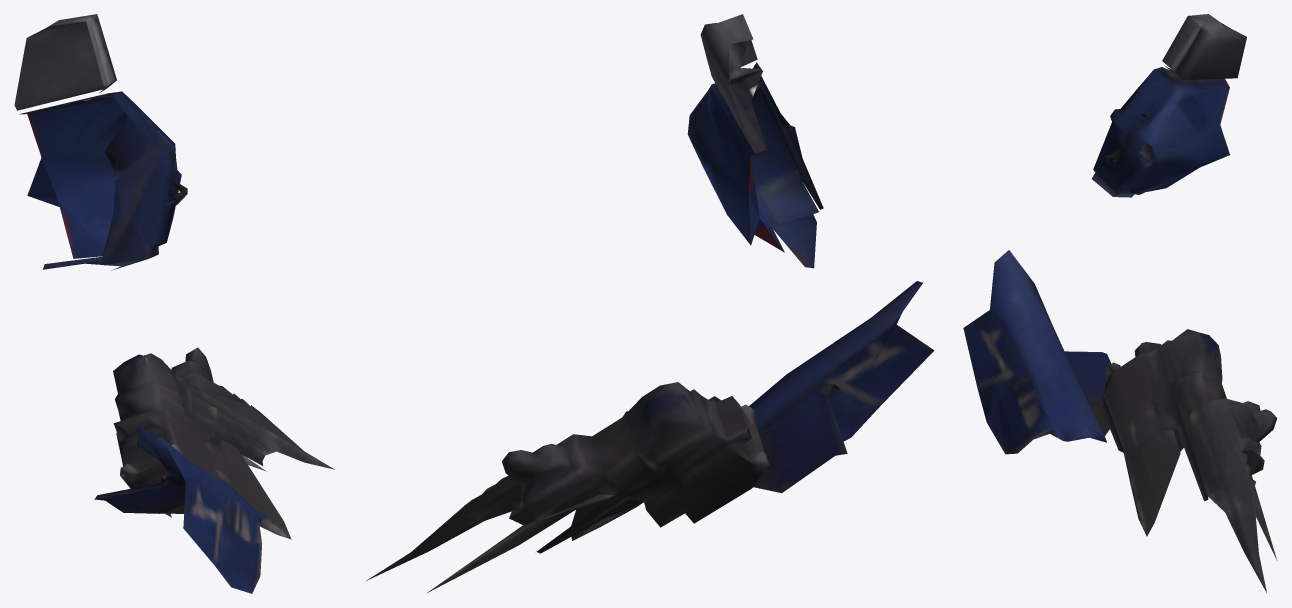
Rendered from blue_arm_right_upper.glb.
3 views of the same model, side by side, from view 1: azimuth 30°, elevation 25°; view 2: azimuth 150°, elevation 25°; view 3: azimuth 270°, elevation 25° (orthographic). The views are drawn at different scales.
Visible parts, largest first — view 1: blue_arm_right_upper; view 2: blue_arm_right_upper; view 3: blue_arm_right_upper.
Part boxes in pixels (x1,y1,x2,y2): blue_arm_right_upper: (14,14,334,593); blue_arm_right_upper: (365,14,934,593); blue_arm_right_upper: (963,14,1277,592).
Size of the model in its own units: 1.31 by 1.97 by 1.22.
Materials: 1 (1 with a texture image).
